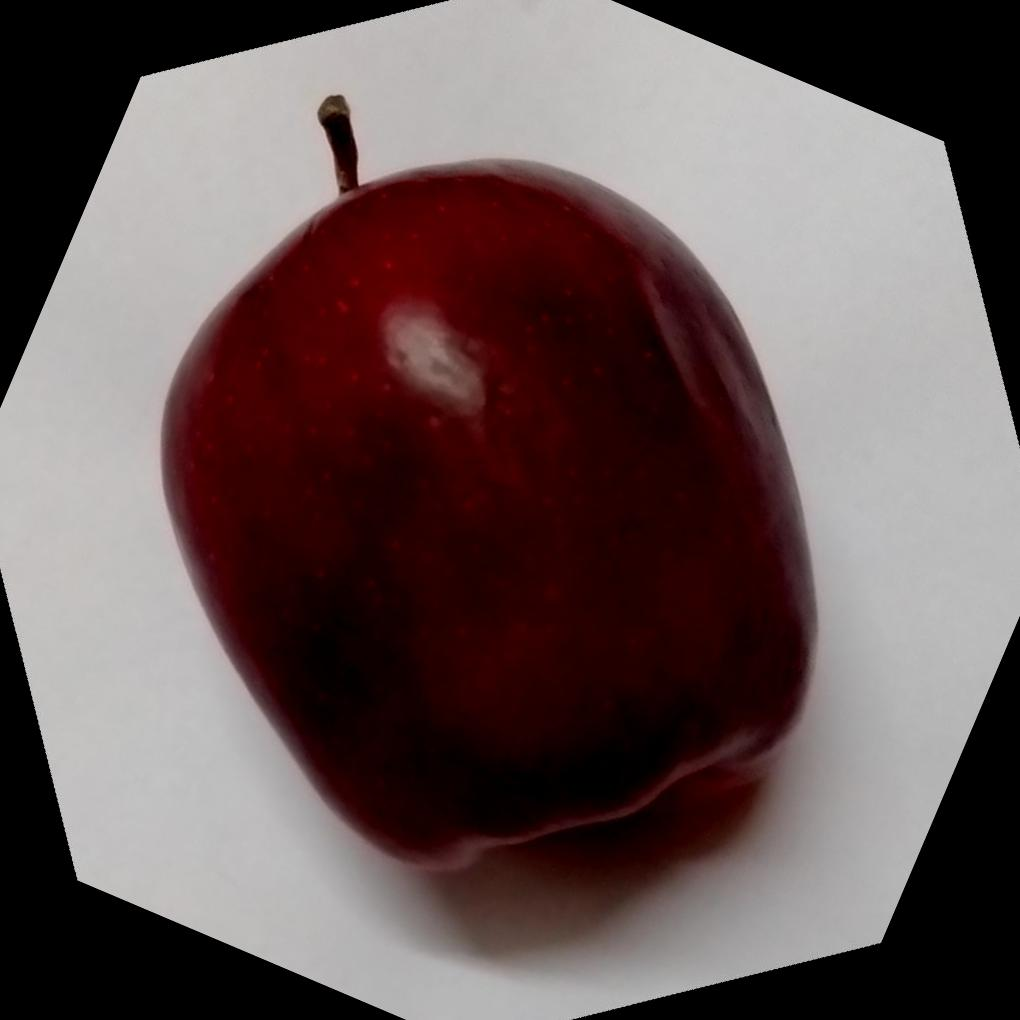FreshOrange: (158, 157, 822, 878)
